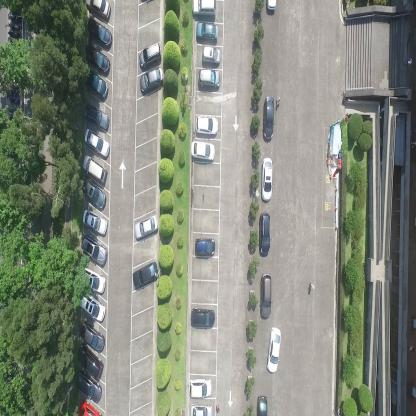car: (76, 343, 104, 382), (80, 233, 108, 269), (75, 369, 102, 403), (80, 318, 105, 353), (79, 292, 106, 324), (86, 17, 112, 50), (85, 43, 111, 76), (266, 326, 283, 374), (85, 68, 109, 102), (82, 176, 106, 210), (132, 260, 159, 290), (84, 128, 110, 159), (81, 208, 108, 237), (80, 267, 107, 295), (81, 153, 106, 183), (140, 66, 164, 95), (84, 102, 108, 131), (134, 213, 158, 241), (139, 41, 162, 70), (262, 96, 275, 142), (259, 274, 271, 321), (259, 212, 271, 258), (261, 157, 273, 202), (191, 140, 215, 162), (188, 378, 212, 400), (198, 67, 220, 90), (190, 0, 218, 18), (195, 115, 219, 136), (85, 0, 111, 19), (191, 307, 215, 327), (195, 22, 218, 42), (194, 238, 216, 257), (78, 400, 104, 416), (201, 45, 220, 65), (189, 403, 214, 415), (256, 394, 268, 416), (264, 0, 277, 15)
